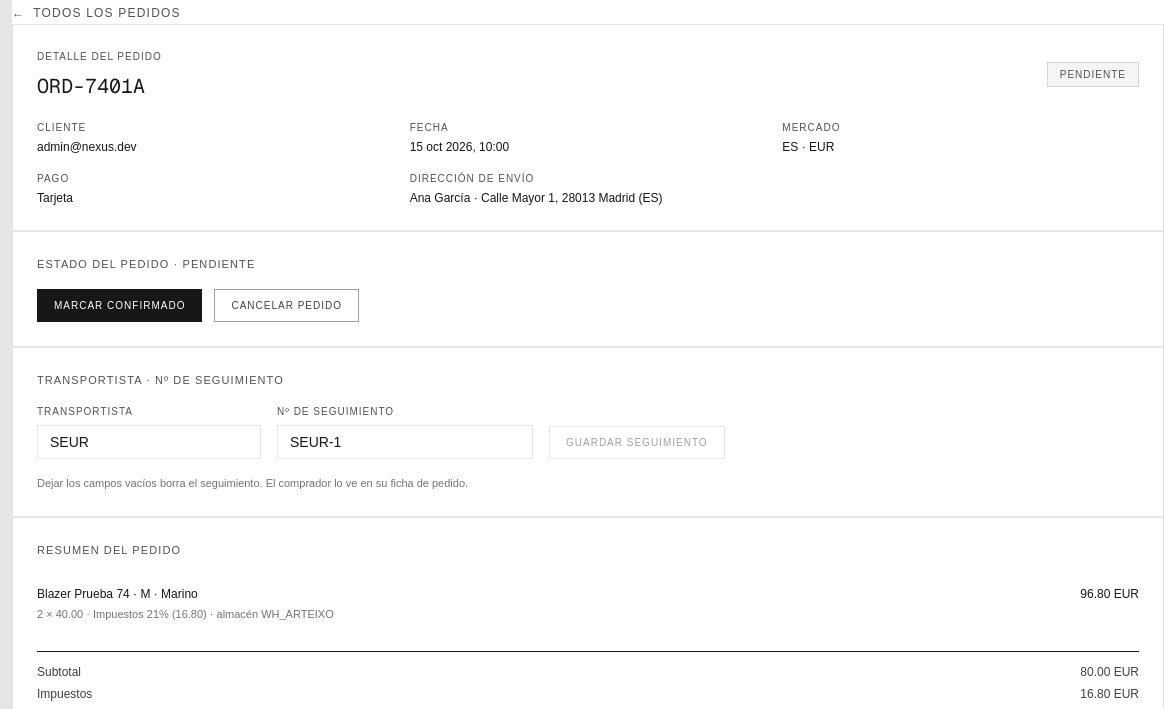
AdminOrderDetailPage › el guardado de tracking sólo se habilita si cambió y usa full-replace (E.5)
Check: the heading "ORD-7401A" is shown, box left=37, top=72, right=162, bottom=100
Check: the button "Guardar seguimiento" is disabled, box left=549, top=426, right=725, bottom=459
Replace the text in the field labelled "Transportista" with "Nacex" at (149, 442), box left=37, top=425, right=261, bottom=459
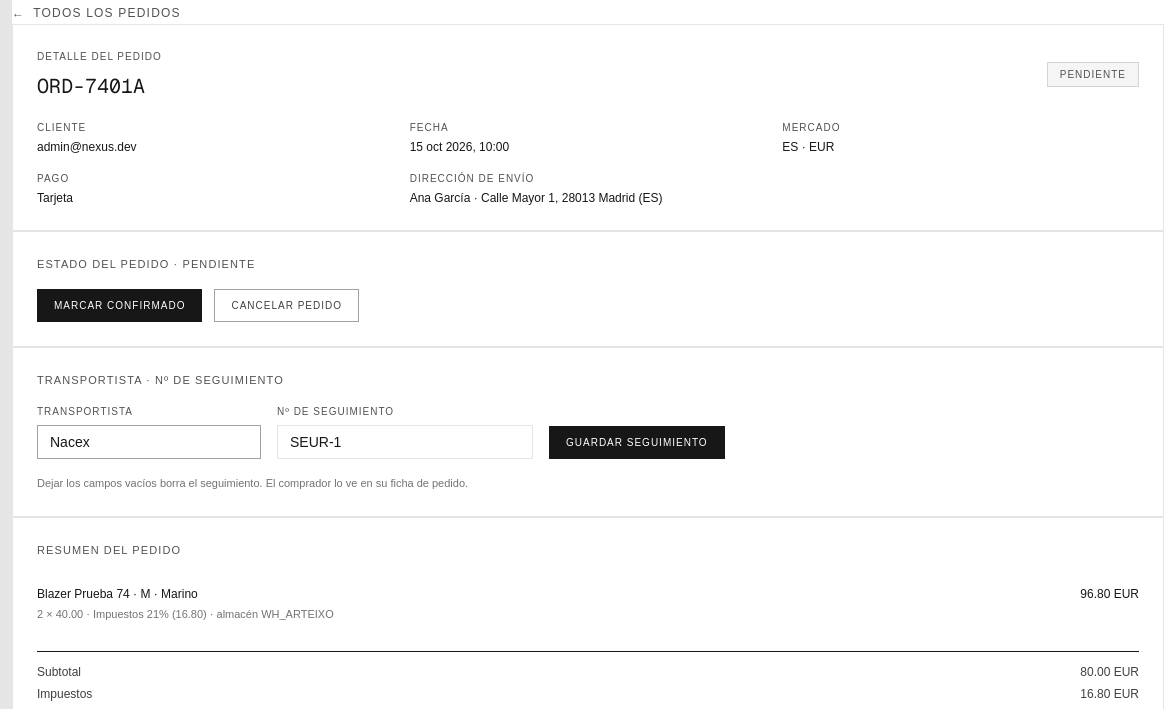
Check: the button "Guardar seguimiento" is enabled
Click the button "Guardar seguimiento" at (637, 442), box left=549, top=426, right=725, bottom=459
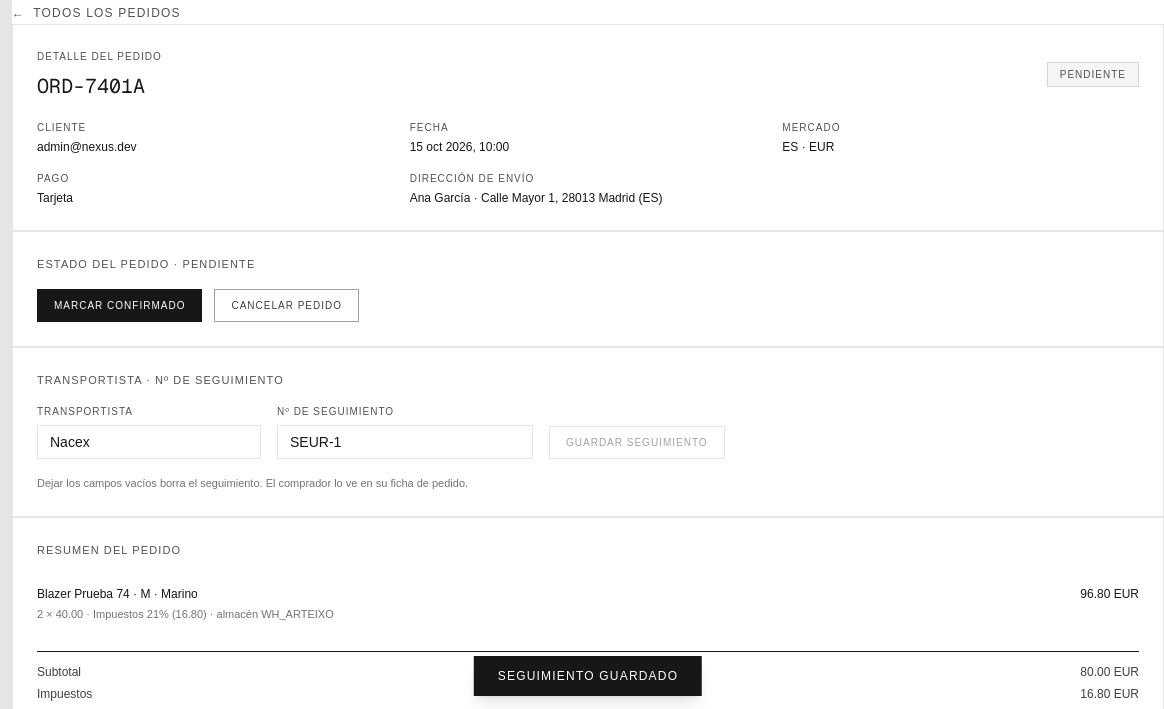
Check: the text "Seguimiento guardado" is shown, box left=474, top=656, right=702, bottom=696
Check: the button "Guardar seguimiento" is disabled, box left=549, top=426, right=725, bottom=459
